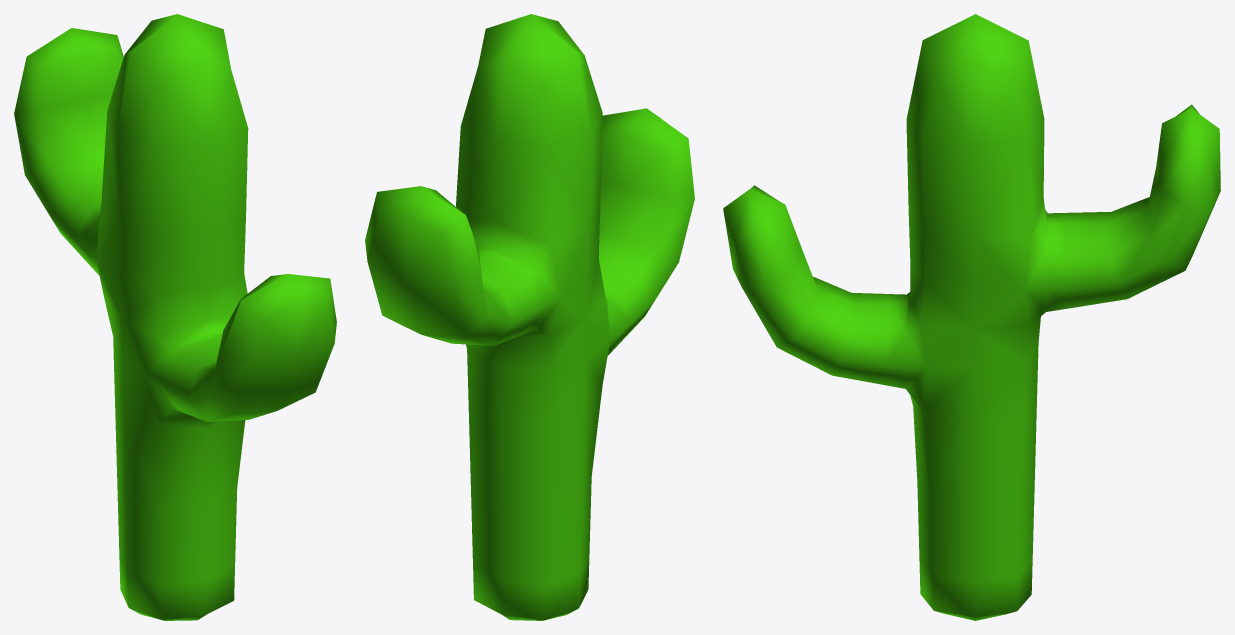
Rendered from cactus.dae.
3 renders of one model, left to right at view 1: azimuth 30°, elevation 25°; view 2: azimuth 150°, elevation 25°; view 3: azimuth 270°, elevation 25°, orthographic.
Visible parts, largest first — view 1: Cube; view 2: Cube; view 3: Cube.
Boxes of the visible parts, <box> form: Cube: <box>14,14,336,620</box>; Cube: <box>365,14,694,620</box>; Cube: <box>723,14,1220,620</box>.
Bounding box in the file's own units: 0.2553 × 0.9152 × 1.2.
